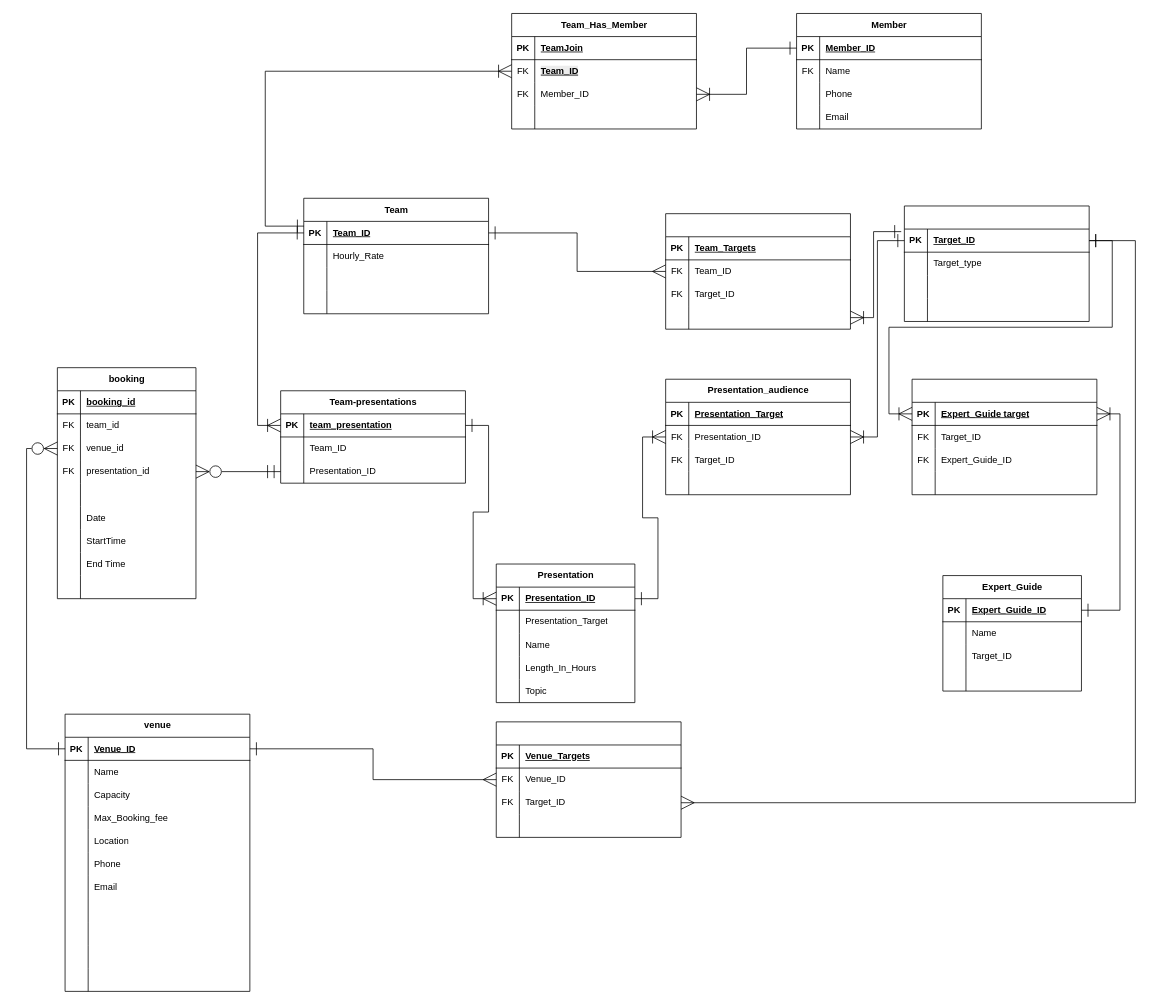
This 1163x1005 diagram has some shape labels left out. The box of each missing label's shape, as (x1, y1, x2, y2) in pixels:
Expert_Guide_Audience: (911, 378, 1097, 495)
Target_Audience: (904, 205, 1089, 321)
Team_Audiences: (665, 213, 850, 329)
venue_audience: (495, 721, 681, 837)
